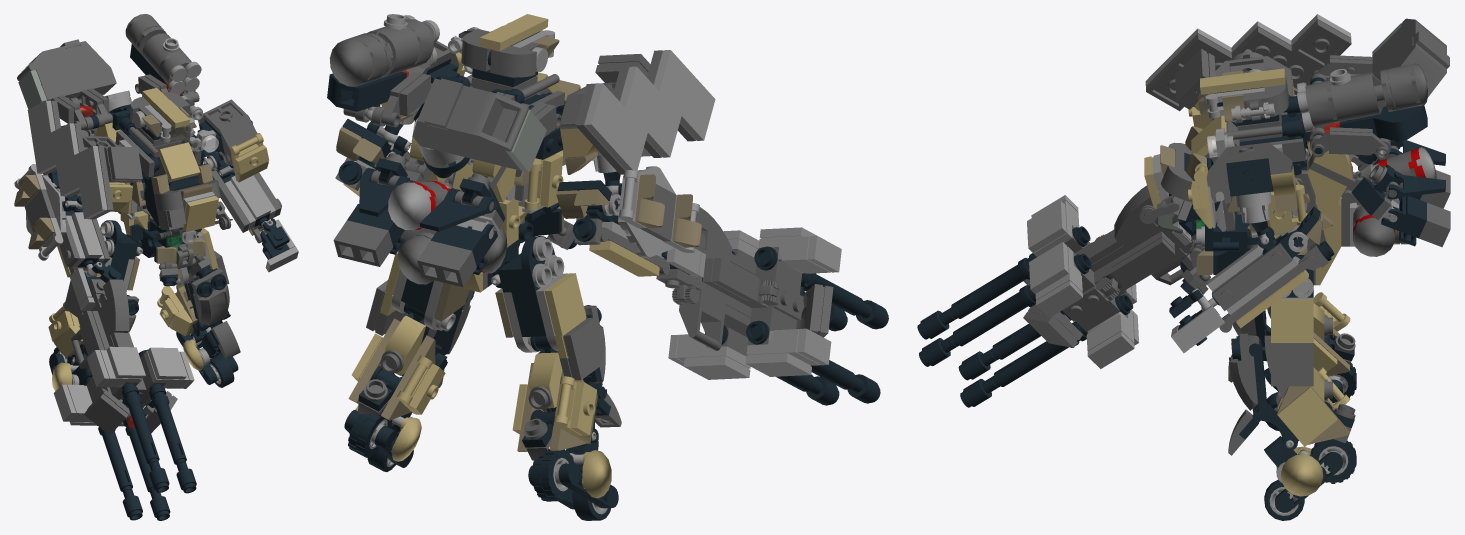
File: ag-03d-baja.dae
The picture shows the model from 3 angles, left to right: view 1: azimuth 30°, elevation 25°; view 2: azimuth 150°, elevation 25°; view 3: azimuth 270°, elevation 25°; orthographic projection. The views are drawn at different scales.
Bounding box in the file's own units: 372 × 500 × 453.
